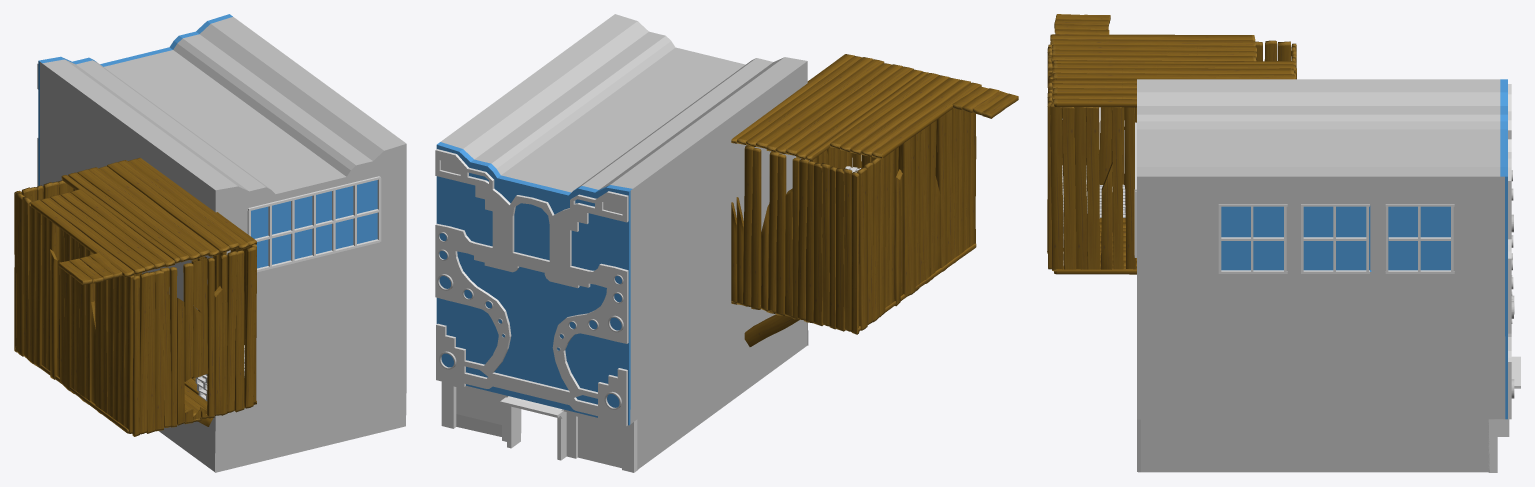
File: EDIFICIOPUZZLEV3.fbx
The picture shows the model from 3 angles, left to right: view 1: azimuth 30°, elevation 25°; view 2: azimuth 150°, elevation 25°; view 3: azimuth 270°, elevation 25°; orthographic projection. The views are drawn at different scales.
Parts seen in each view (by area): view 1: Cube, wood_plank_middle_01.001, wood_plank_middle_01.029, wood_plank_middle_01.001_cell.020, wood_plank_middle_01.065, wood_plank_middle_01.060, wood_plank_middle_01.058, wood_plank_middle_01.057, wood_plank_middle_01.002_cell, wood_plank_middle_01.056, wood_plank_middle_01.001_cell, wood_plank_middle_01.113 (+2 smaller); view 2: Cube, wood_plank_middle_01.029, wood_plank_middle_01.001, wood_plank_middle_01.001_cell.020, wood_plank_middle_01.065, wood_plank_middle_01.092; view 3: Cube, wood_plank_middle_01.001, wood_plank_middle_01.001_cell.020, wood_plank_middle_01.065, wood_plank_middle_01.029, wood_plank_middle_01.113, wood_plank_middle_01.060.
Part boxes in pixels (x1,y1,x2,y2): Cube: (37,14,406,472); wood_plank_middle_01.001: (29,157,256,285); wood_plank_middle_01.029: (14,180,247,434); wood_plank_middle_01.001_cell.020: (74,240,241,436); wood_plank_middle_01.065: (50,189,256,425); wood_plank_middle_01.060: (244,246,256,408); wood_plank_middle_01.058: (227,251,237,412); wood_plank_middle_01.057: (234,250,244,412); wood_plank_middle_01.002_cell: (191,259,201,378); wood_plank_middle_01.056: (220,254,227,415); wood_plank_middle_01.001_cell: (197,256,208,375); wood_plank_middle_01.113: (15,346,256,433); Cube: (435,14,808,472); wood_plank_middle_01.029: (742,111,976,334); wood_plank_middle_01.001: (731,54,1018,160); wood_plank_middle_01.001_cell.020: (731,108,964,316); wood_plank_middle_01.065: (785,125,930,319); wood_plank_middle_01.092: (744,314,799,346); Cube: (1134,79,1520,472); wood_plank_middle_01.001: (1050,14,1295,107); wood_plank_middle_01.001_cell.020: (1048,44,1136,269); wood_plank_middle_01.065: (1047,73,1296,270); wood_plank_middle_01.029: (1047,40,1296,269); wood_plank_middle_01.113: (1053,231,1136,274); wood_plank_middle_01.060: (1047,101,1052,269).
Bounding box in the file's own units: 5499 × 4096 × 5937.
